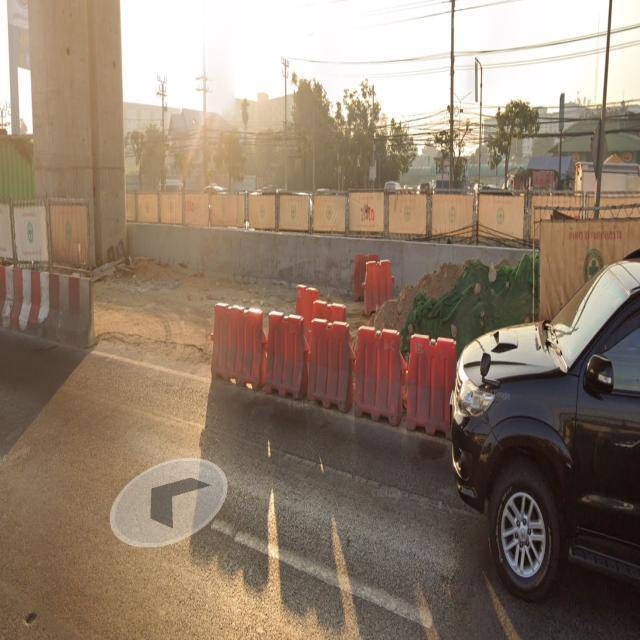fallen_object: (240, 295, 361, 408), (0, 247, 99, 356), (272, 233, 392, 319), (366, 310, 448, 435), (197, 297, 274, 392)
